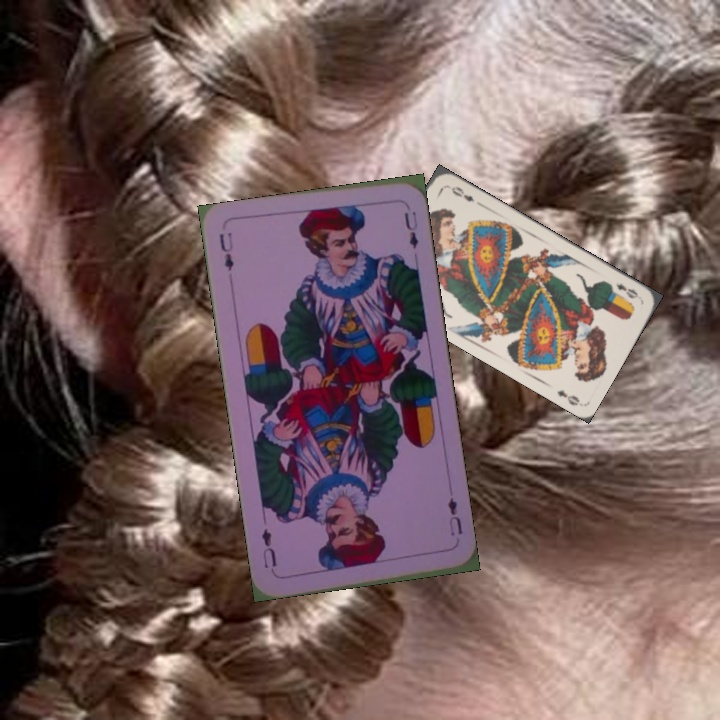EO: (605, 279, 643, 301)
EU: (215, 228, 236, 274), (444, 493, 465, 538)
